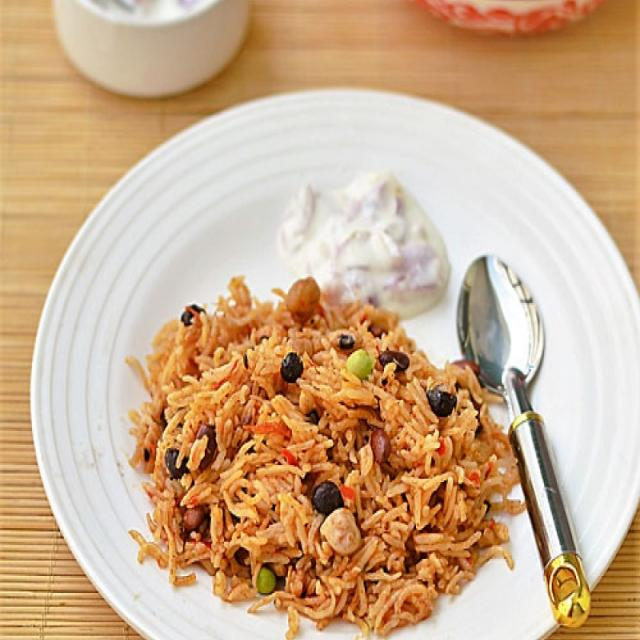Biryani: (114, 289, 526, 619)
